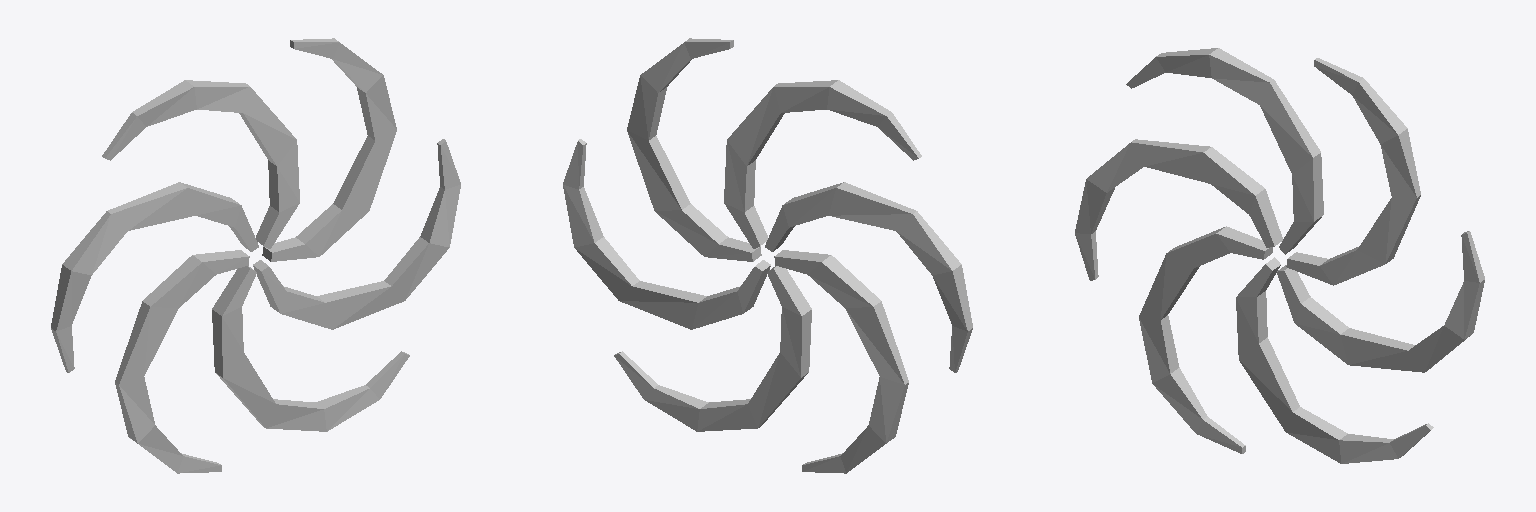
Rendered from dobro-vint-l.obj.
3 views of the same model, side by side, from view 1: azimuth 30°, elevation 25°; view 2: azimuth 150°, elevation 25°; view 3: azimuth 330°, elevation 25° (orthographic).
Parts seen in each view (by area): view 1: Cube.022_Cube.026; view 2: Cube.022_Cube.026; view 3: Cube.022_Cube.026.
Part boxes in pixels (left/top/right/bottom): Cube.022_Cube.026: left=51, top=38, right=460, bottom=473; Cube.022_Cube.026: left=563, top=38, right=972, bottom=473; Cube.022_Cube.026: left=1075, top=48, right=1484, bottom=463.
Bounding box in the file's own units: 2.63 × 2.56 × 0.1133.